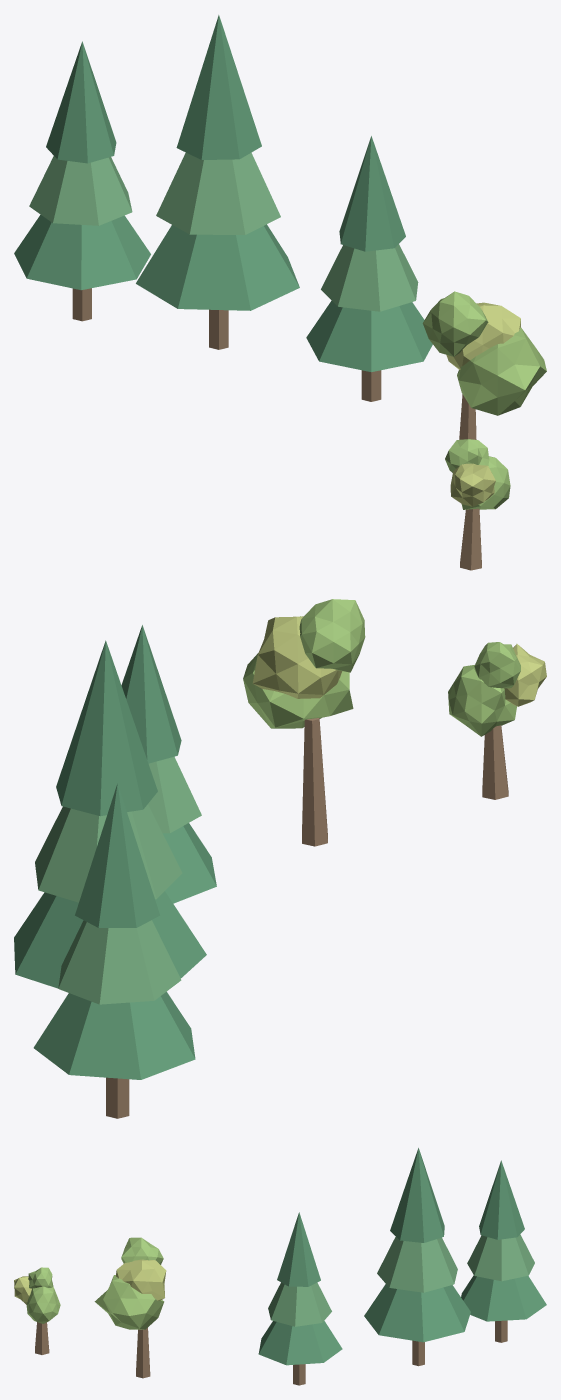
The model's file is props_right.glb.
The picture shows the model from 3 angles, top to bottom: view 1: azimuth 30°, elevation 25°; view 2: azimuth 150°, elevation 25°; view 3: azimuth 270°, elevation 25°; orthographic projection. The views are drawn at different scales.
Size of the model in its own units: 0.2049 by 0.2595 by 0.5803.
